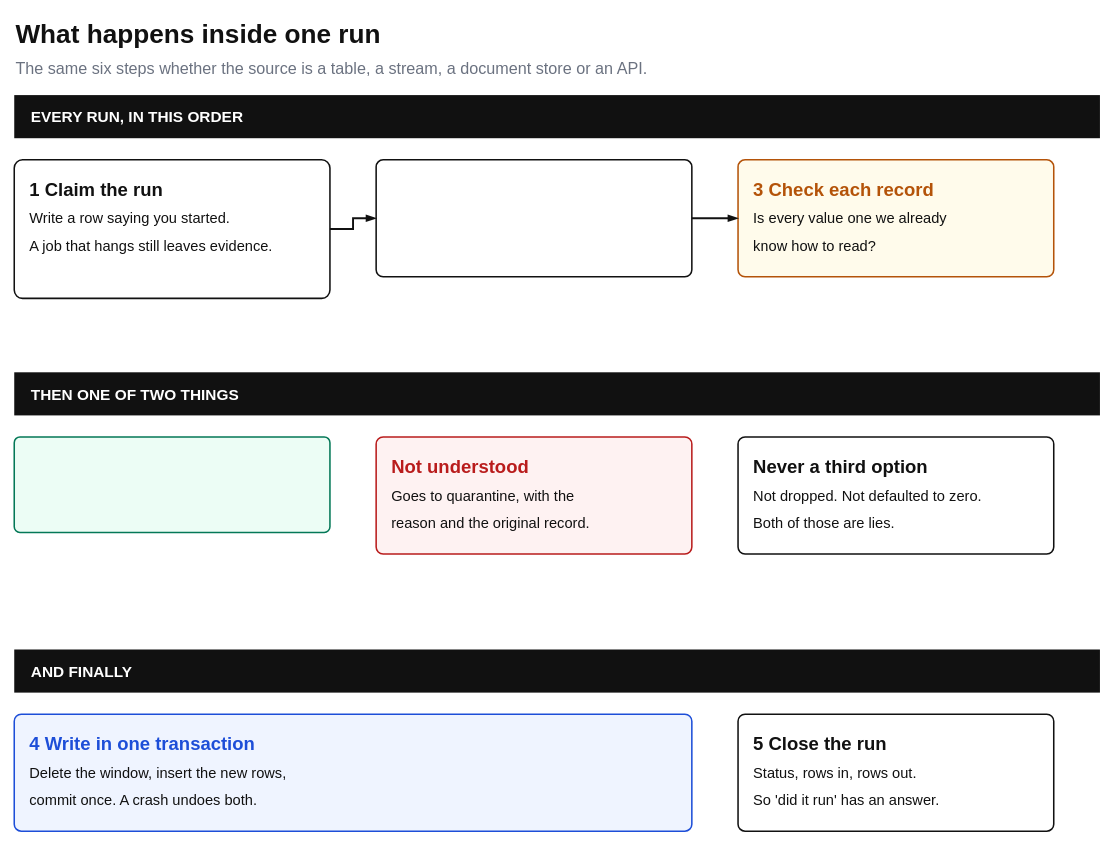
The diagram is 1113 pixels wide and 845 high, and some of its shapes have lost their labels. The shapes that lost their labels are listed below. From the top down, each one's box as (x1, y1, x2, y2) in pixels, then its label:
(375, 159, 692, 277): 2 Read the window Only what is new. Never the whole table, ever.
(13, 436, 330, 533): Understood Goes to the target table.
